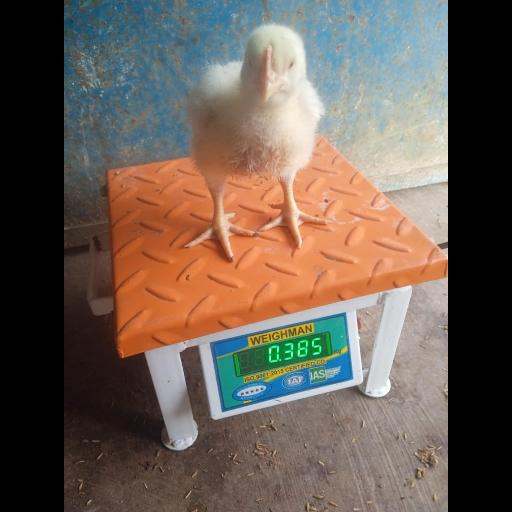chick: (183, 26, 330, 259)
